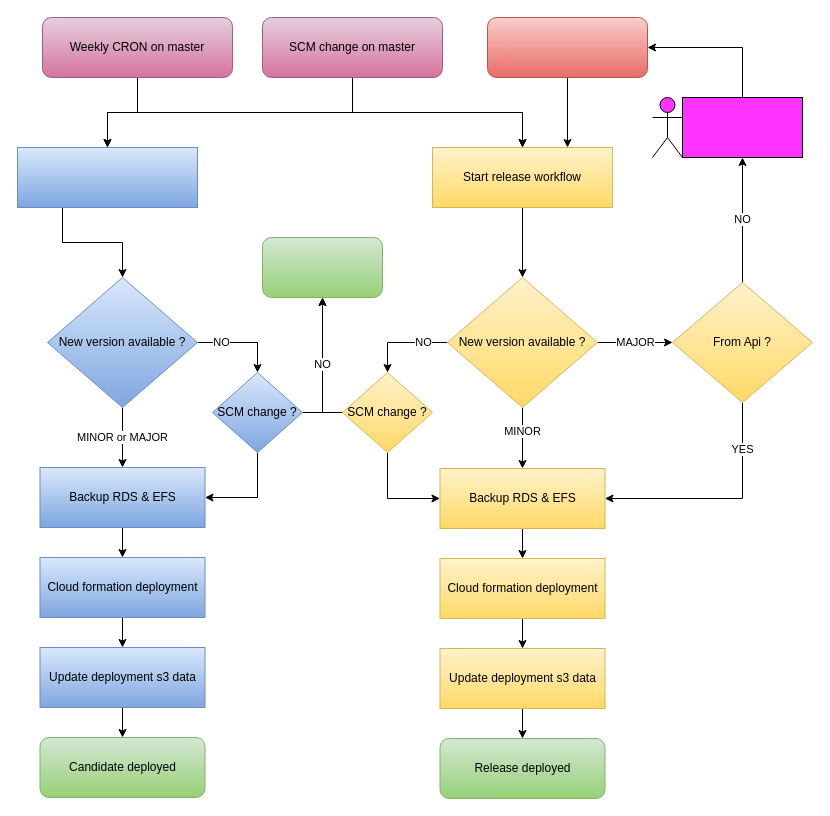
Image size: 830x816. Some labels were removed from this diagram. Here are the shapes that lost their labels. From the top down, the centre of each, then its label:
At [567,47]: "Api call to major update Release".
At [742,127]: "User notification to validate candidate and call api to deploy release".
At [107,177]: "Start candidate workflow".
At [322,267]: "Do nothing".
